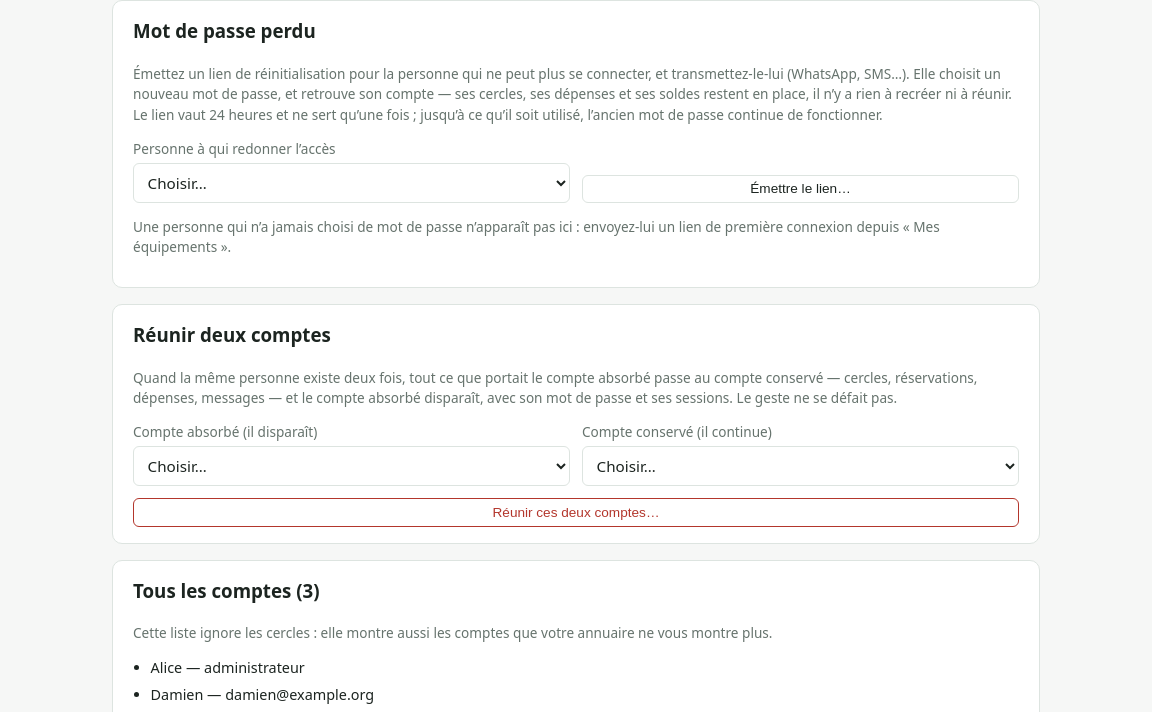
Test: Écran d’administration — mot de passe perdu › la confirmation nomme la personne et annonce que le lien précédent cesse de valoir
This screenshot has width=1152, height=712.
Expected: the heading "Tous les comptes (3)" is shown, [133,578,320,603]
Select "Damien — damien@example.org" in the dropdown labelled "Personne à qui redonner l’accès": (352, 183) [133,163,570,203]
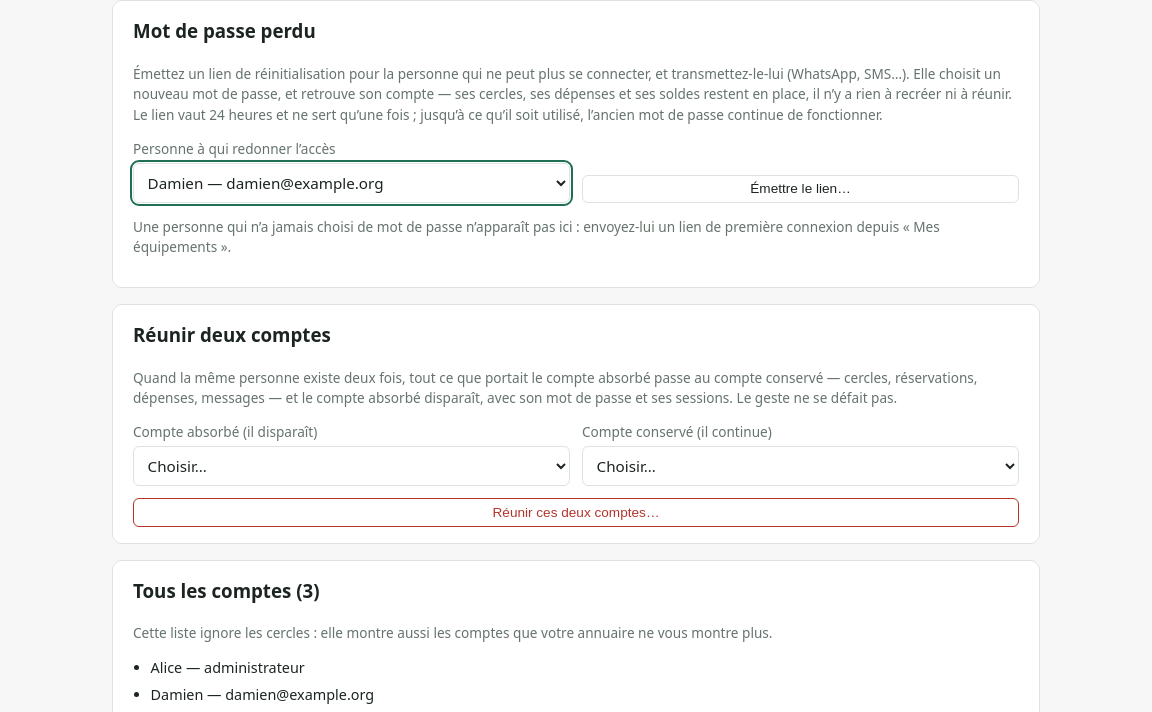
Click the button "Émettre le lien…": (800, 189) [582,175,1019,203]
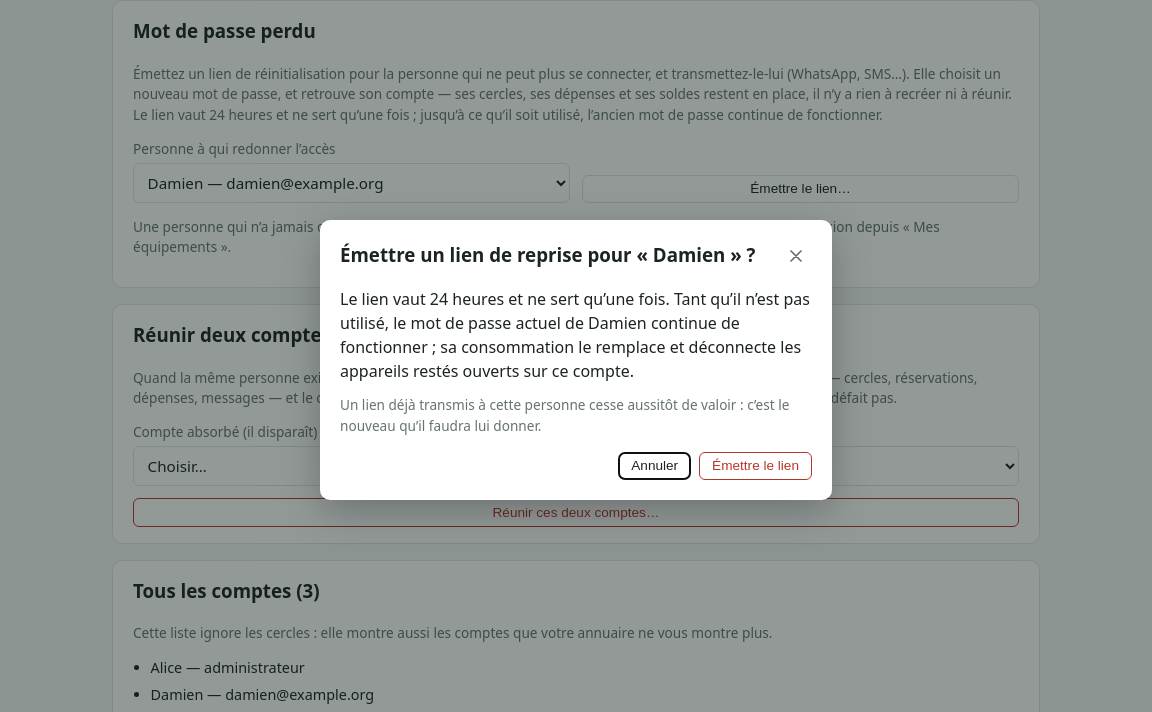
Expected: the heading "Émettre un lien de reprise pour « Damien » ?" is shown, [340,242,756,270]
Expected: the text "cesse aussitôt de valoir" is shown, [340,395,789,434]
